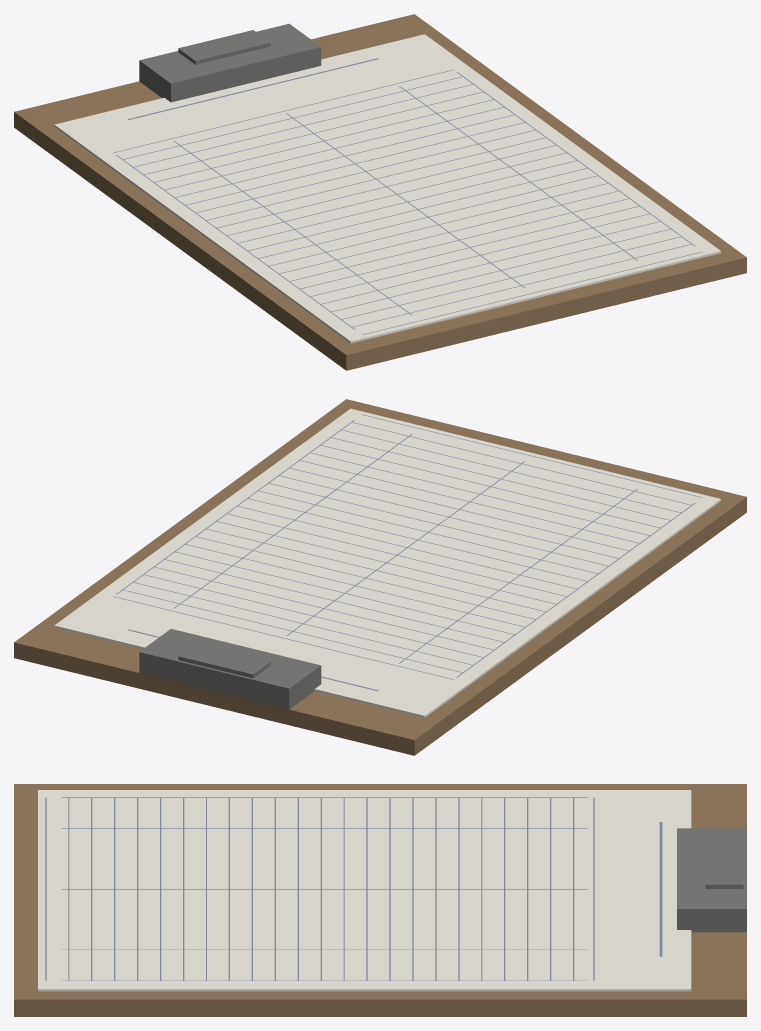
File: scoresheet.glb
3 renders of one model, top to bottom at view 1: azimuth 30°, elevation 25°; view 2: azimuth 150°, elevation 25°; view 3: azimuth 270°, elevation 25°, orthographic. The views are drawn at different scales.
Visible parts, largest first — view 1: Sheet, Clipboard, SheetLines, Clip; view 2: Sheet, Clipboard, SheetLines, Clip; view 3: Sheet, Clipboard, SheetLines, Clip.
Part boxes in pixels (<box>): Sheet: <box>54,34,720,343</box>; Clipboard: <box>14,14,746,370</box>; SheetLines: <box>113,58,701,334</box>; Clip: <box>139,23,321,102</box>; Sheet: <box>54,408,720,717</box>; Clipboard: <box>14,399,746,755</box>; SheetLines: <box>113,414,702,691</box>; Clip: <box>139,629,321,709</box>; Sheet: <box>38,790,691,991</box>; Clipboard: <box>14,784,746,1016</box>; SheetLines: <box>45,797,662,980</box>; Clip: <box>677,828,746,932</box>.
Bounding box in the file's own units: 0.16 × 0.0155 × 0.23.
